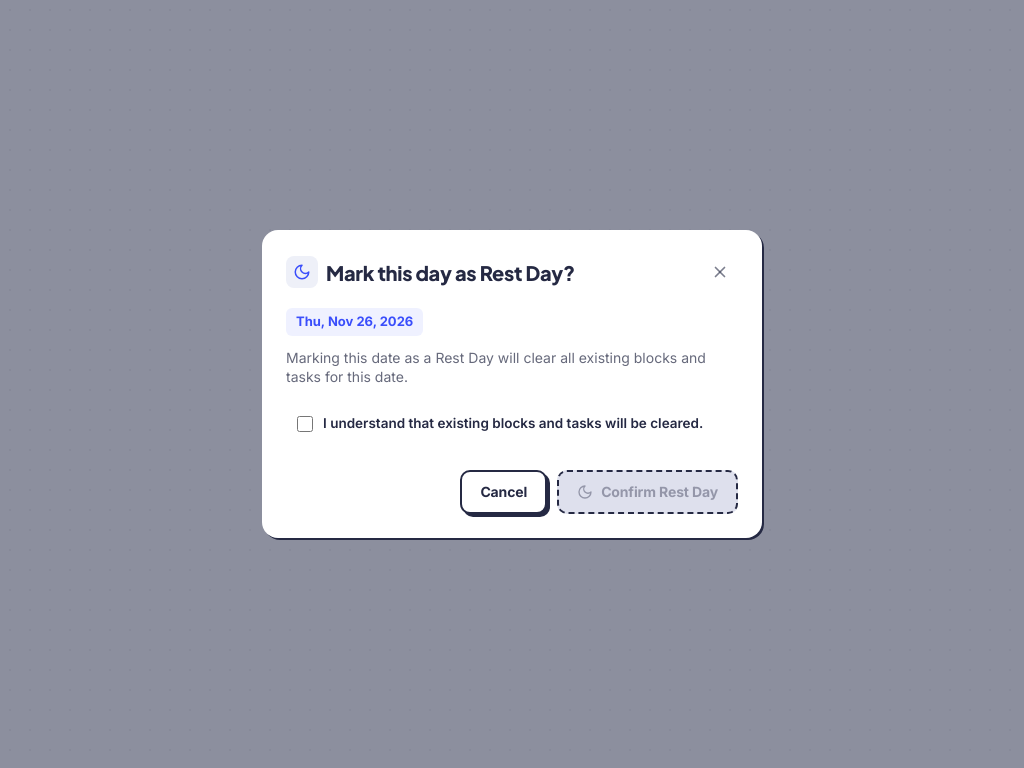
Test: RestDayModal Component › keeps confirm button disabled until the acknowledgment checkbox is checked
The width and height of the screenshot is (1024, 768).
expect the button "Confirm Rest Day" is disabled: met, box [557, 470, 738, 514]
Step 1. Click the checkbox labelled "I understand that existing blocks and tasks will be cleared." → (305, 424), box [297, 416, 313, 432]
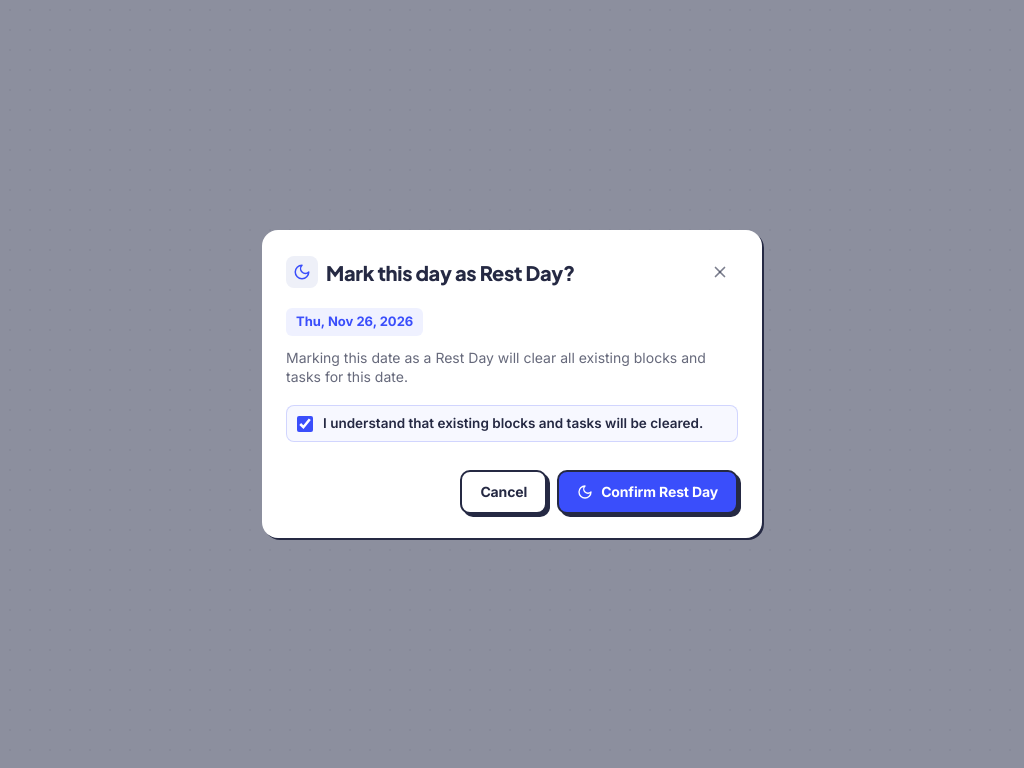
expect the button "Confirm Rest Day" is enabled: met, box [557, 470, 738, 514]
# Unchecking disables it again
Step 2. Click the checkbox labelled "I understand that existing blocks and tasks will be cleared." → (305, 424), box [297, 416, 313, 432]
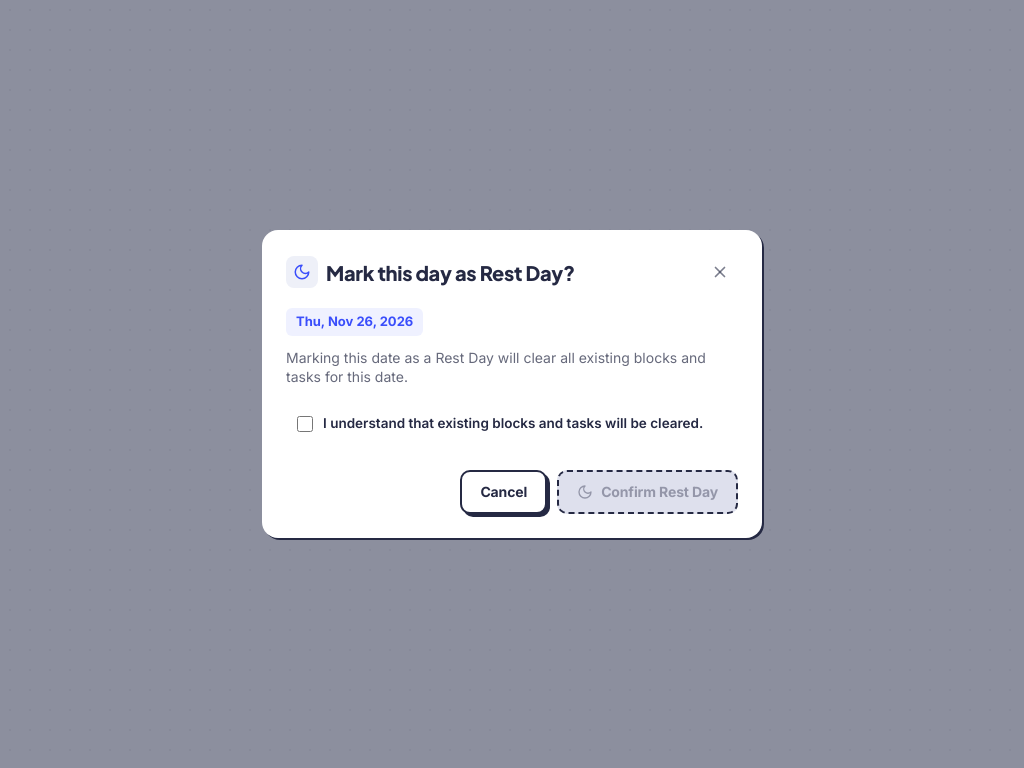
expect the button "Confirm Rest Day" is disabled: met, box [557, 470, 738, 514]
